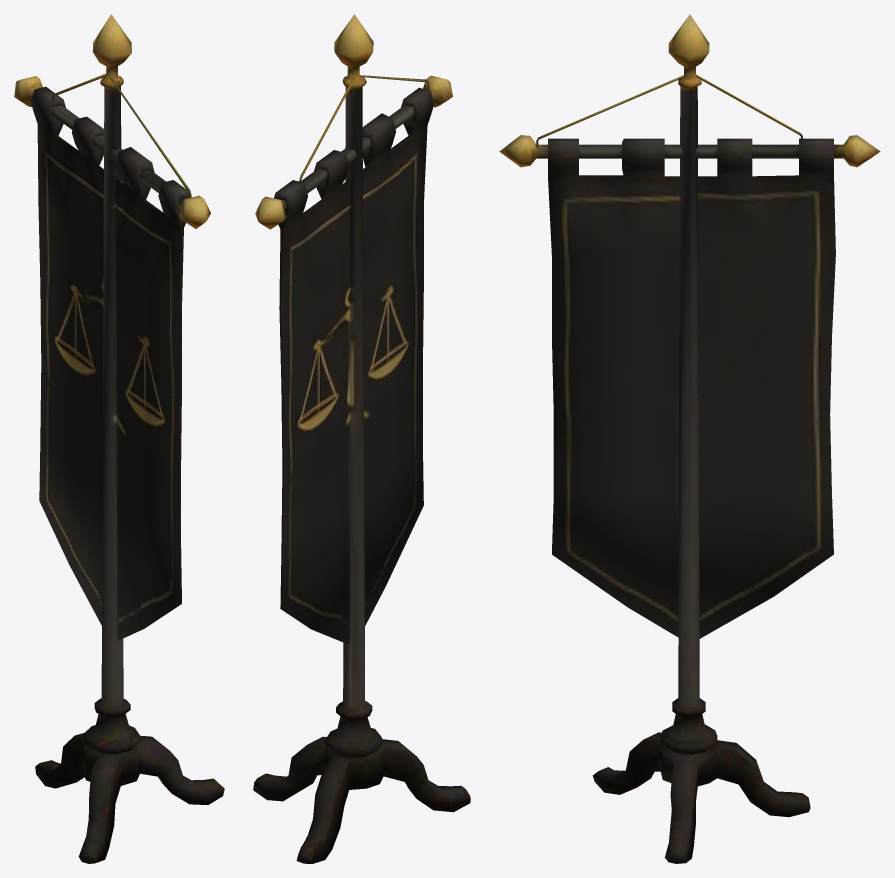
Rendered from wyn_outpost_gilt_banner.glb.
The picture shows the model from 3 angles, left to right: view 1: azimuth 30°, elevation 25°; view 2: azimuth 150°, elevation 25°; view 3: azimuth 270°, elevation 25°; orthographic projection.
Visible parts, largest first — view 1: tripo_node_2d4051f8-9ba0-4b75-9686-2a71a79f1c0f; view 2: tripo_node_2d4051f8-9ba0-4b75-9686-2a71a79f1c0f; view 3: tripo_node_2d4051f8-9ba0-4b75-9686-2a71a79f1c0f.
Boxes of the visible parts, x1=… form: tripo_node_2d4051f8-9ba0-4b75-9686-2a71a79f1c0f: x1=14, y1=14, x2=224, y2=863; tripo_node_2d4051f8-9ba0-4b75-9686-2a71a79f1c0f: x1=253, y1=14, x2=470, y2=863; tripo_node_2d4051f8-9ba0-4b75-9686-2a71a79f1c0f: x1=499, y1=14, x2=880, y2=863.
Size of the model in its own units: 0.6922 by 3 by 1.29.
1 material, 1 textured.
